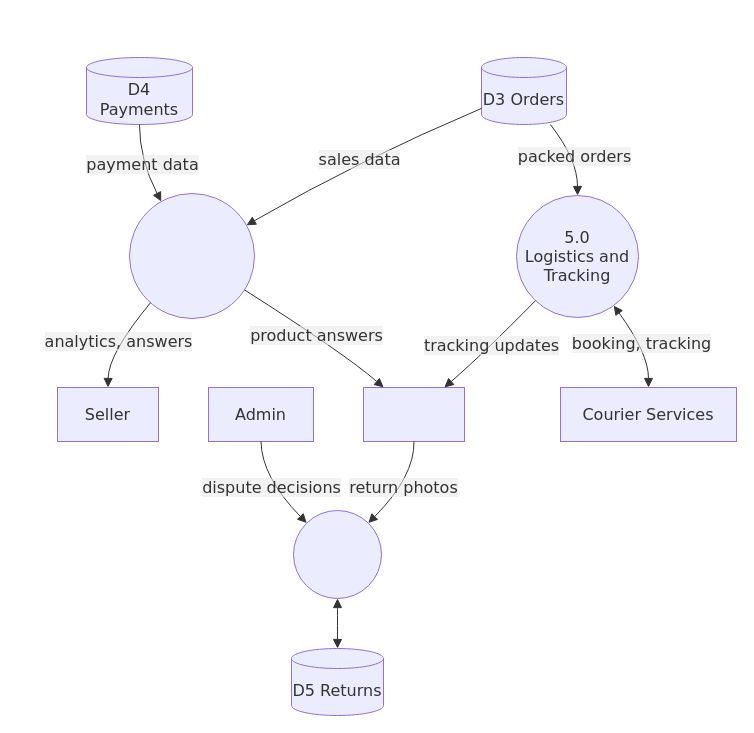
This 754x733 diagram has some shape labels left out. Each missing label, with the box of its shape:
6.0 Handle Returns: (292, 510, 382, 598)
7.0 Analytics and Assistants: (128, 192, 254, 318)
Buyer: (362, 386, 464, 442)
